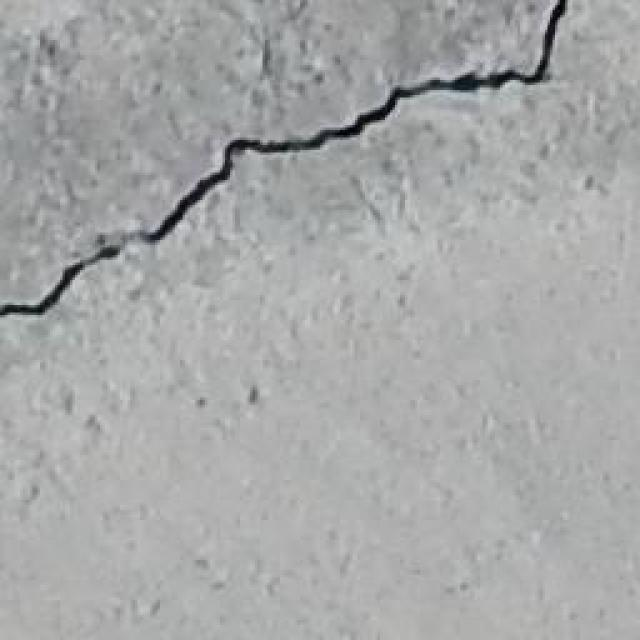concrete-crack: (0, 0, 572, 315)
